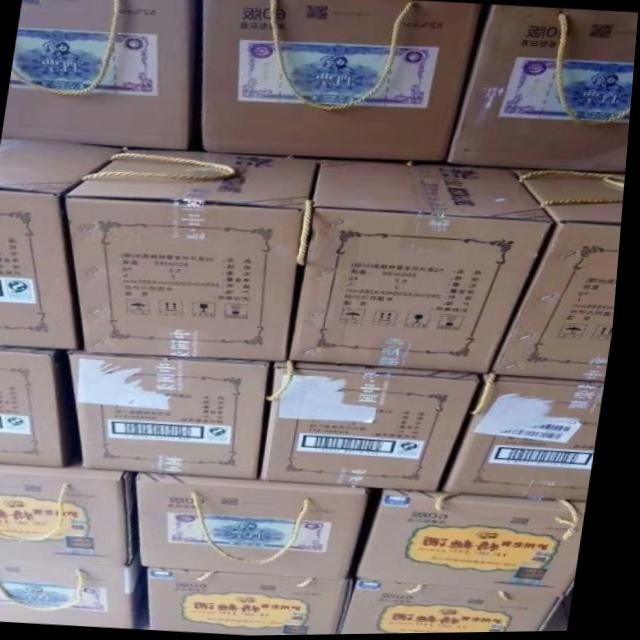box: (64, 148, 324, 363), (296, 162, 556, 374), (198, 0, 491, 166), (442, 8, 638, 179), (4, 0, 201, 151), (268, 364, 493, 491), (498, 169, 628, 385), (0, 138, 128, 352), (78, 354, 280, 481), (144, 475, 378, 583), (365, 491, 595, 598), (452, 379, 610, 503), (0, 465, 151, 565), (151, 569, 363, 636), (348, 582, 582, 635), (0, 556, 158, 629), (0, 350, 87, 466)
